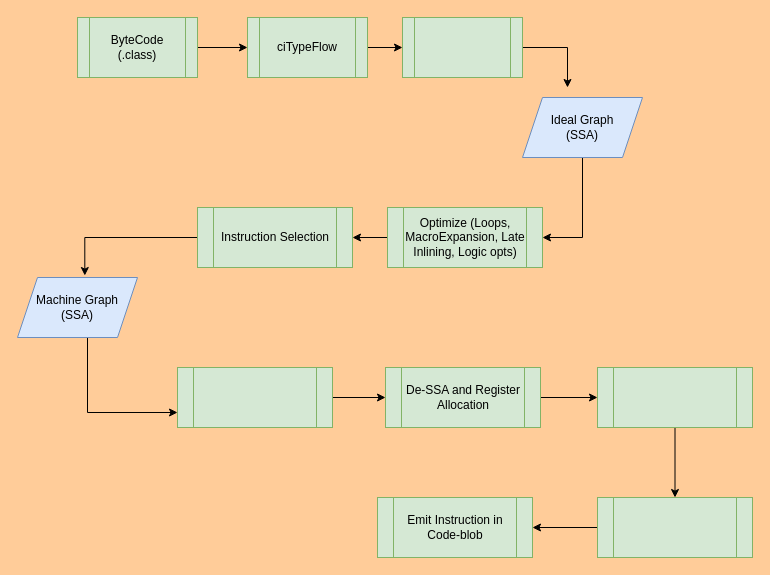
Some shapes in this 770 by 575 pixel diagram are drawn without their labels. The shapes that lost their labels are listed below. From the top down, each one's centre as x and y in pixels, then its label:
At point (462, 47): "C2-Parse (Graph creation, early in-lining, intrinsic creation)".
At point (254, 397): "CFG construction".
At point (674, 397): "Instruction Scheduling".
At point (674, 527): "Peephole optimizations".
